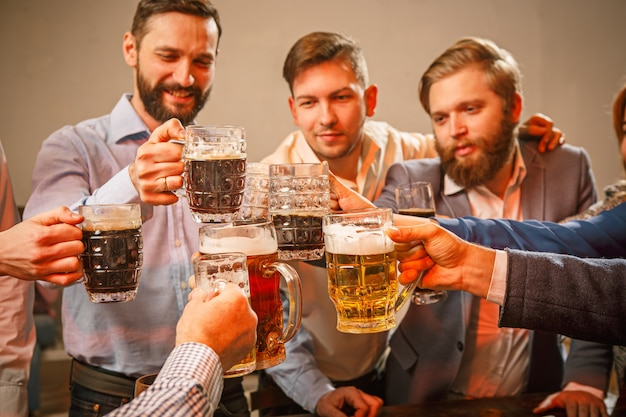alcohol: (198, 224, 302, 369), (322, 212, 426, 332), (58, 206, 143, 304), (168, 121, 247, 224), (193, 256, 258, 377), (266, 163, 343, 260), (395, 181, 435, 306)
